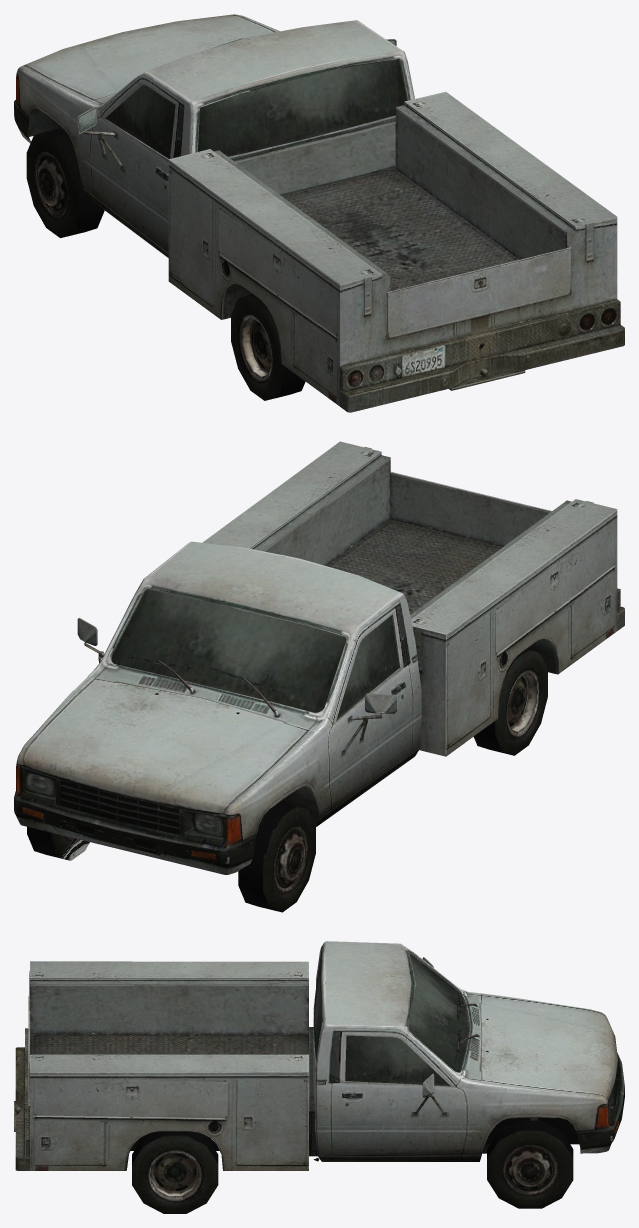
File: counter_strike_source_pickup.glb
The picture shows the model from 3 angles, top to bottom: view 1: azimuth 30°, elevation 25°; view 2: azimuth 150°, elevation 25°; view 3: azimuth 270°, elevation 25°; orthographic projection. The views are drawn at different scales.
Parts seen in each view (by area): view 1: Object_2; view 2: Object_2; view 3: Object_2.
Boxes of the visible parts, x1,y1,x2,y2 form: Object_2: [14, 14, 624, 412]; Object_2: [14, 441, 624, 912]; Object_2: [14, 941, 624, 1213].
Bounding box in the file's own units: 1.23 × 0.8354 × 2.5.
Materials: 2 (2 with a texture image).
